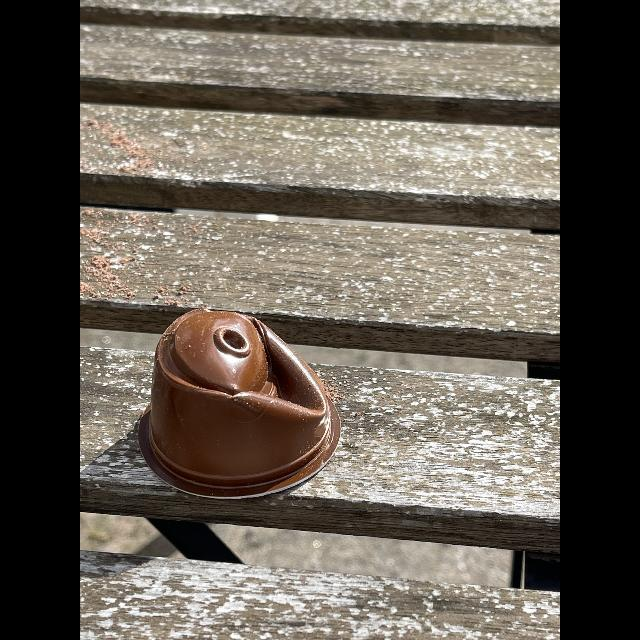damaged_capsule: (124, 297, 350, 513)
